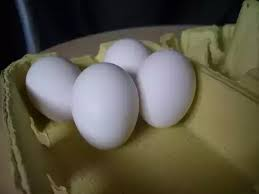eggs: (130, 45, 199, 130), (71, 62, 134, 138), (29, 56, 77, 115), (109, 32, 138, 74)
